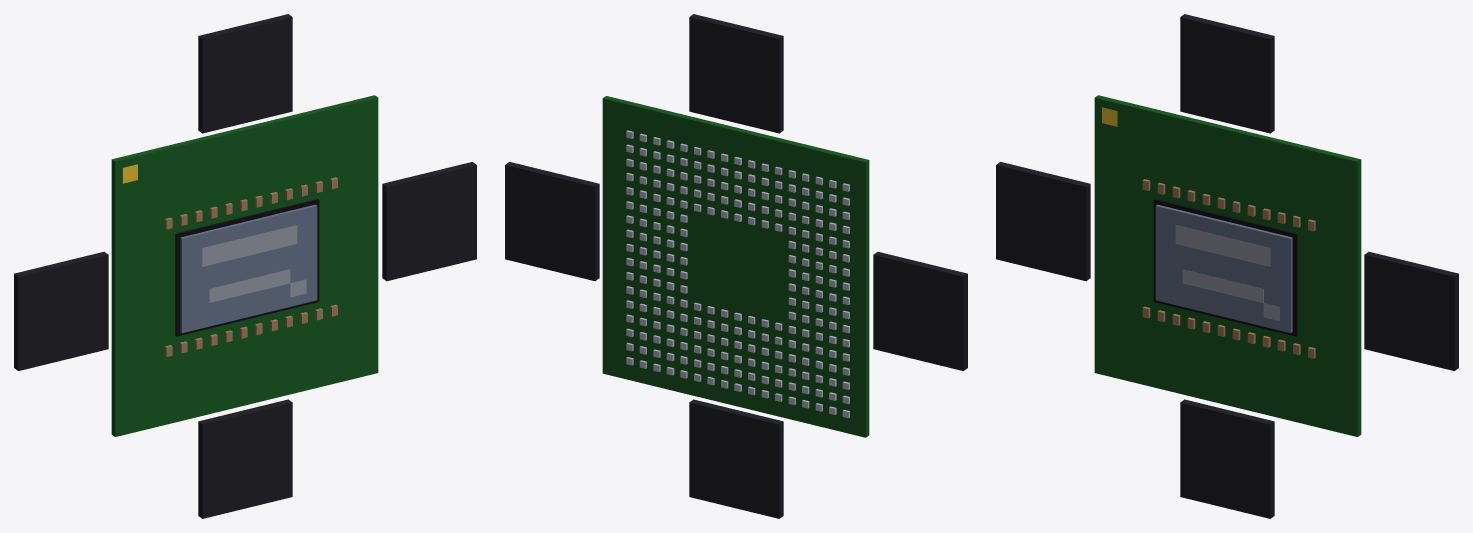
Rendered from GPU_NVIDIA_GEFORCE_RTX_4070_LAPTOP_BGA.obj.
3 renders of one model, left to right at view 1: azimuth 30°, elevation 25°; view 2: azimuth 150°, elevation 25°; view 3: azimuth 330°, elevation 25°, orthographic.
Size of the model in its own units: 61 by 61 by 1.81.
